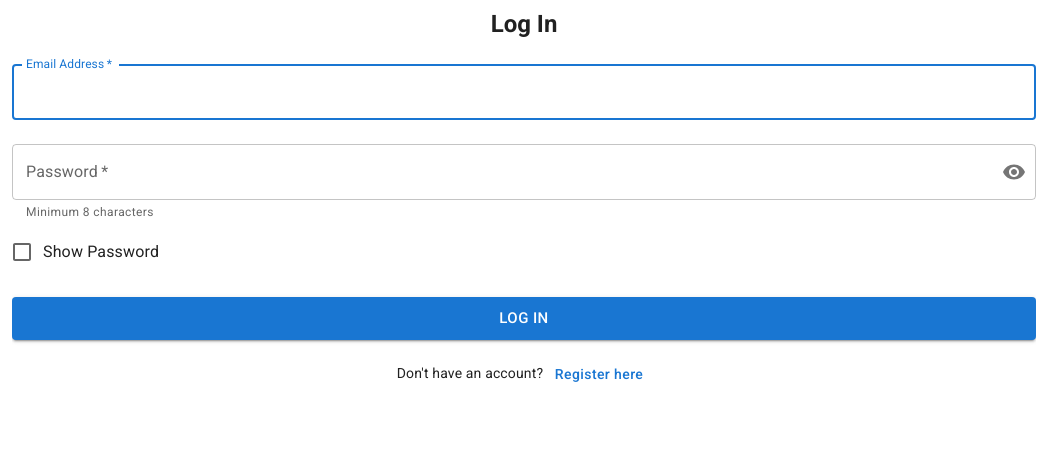
it: authentication forms › submits login credentials and displays the server response
Type "user@example.com" into the field labelled "Email Address *".
click(524, 92); type("user@example.com")  # box [12, 64, 1036, 120]
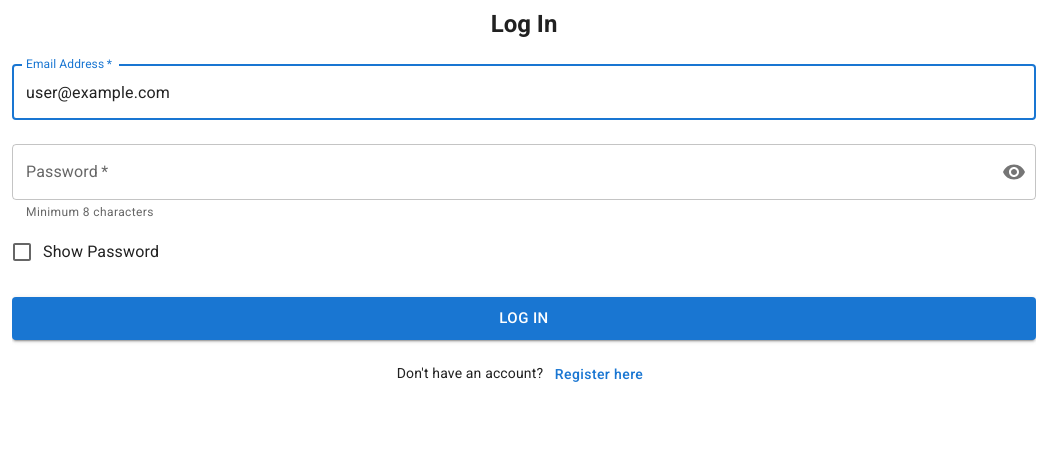
Type "password123" into the password field with id "login-password".
click(499, 172); type("password123")  # box [12, 144, 986, 200]
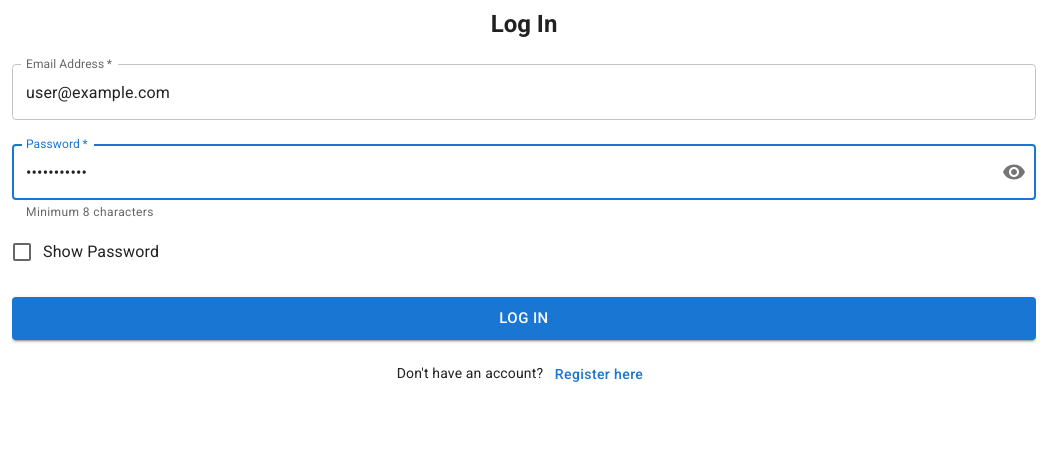
Click the button "Log In".
click(524, 318)  # box [12, 297, 1036, 340]
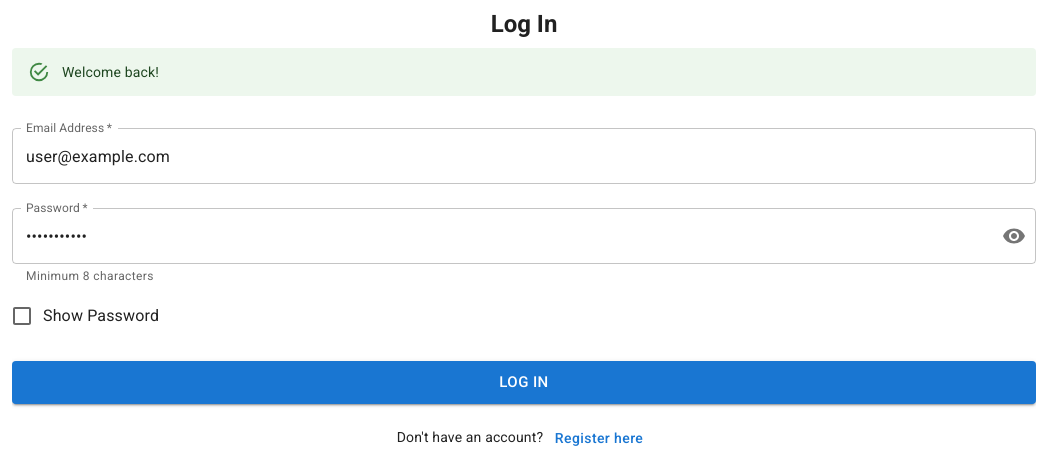
Now the text "Welcome back!" is shown, box [62, 64, 159, 80]
